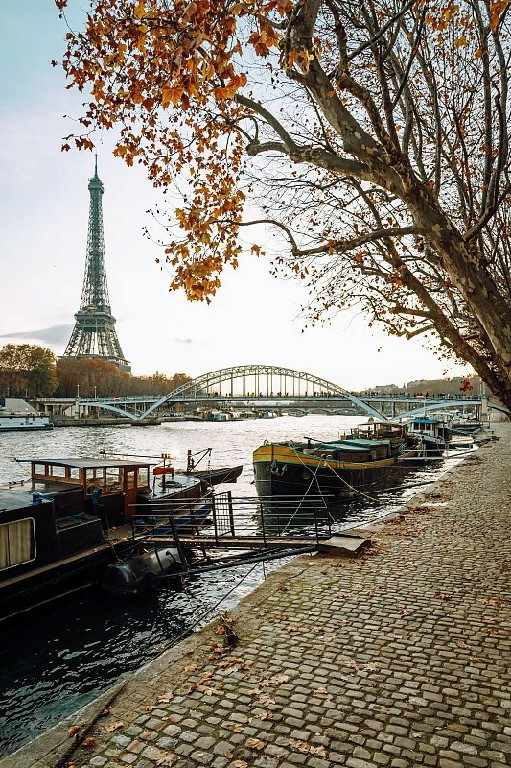Eiffel: (57, 150, 131, 377)
